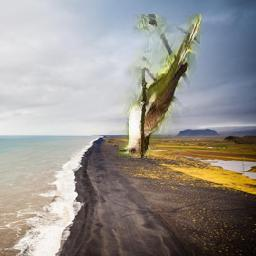Cuckoo: (120, 14, 203, 158)
